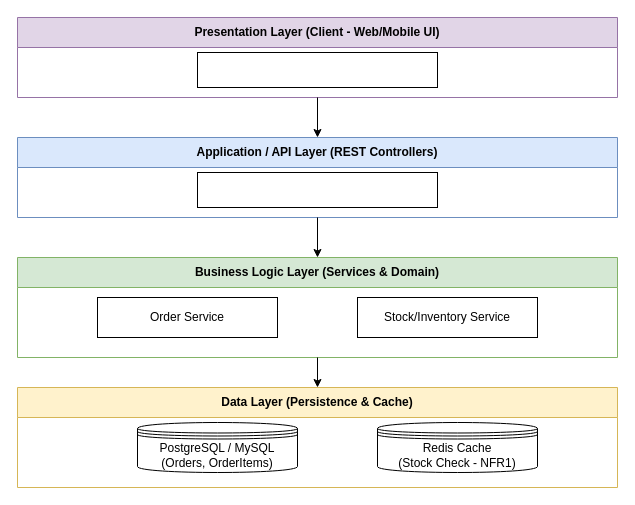
Some shapes in this 635 by 505 pixel diagram are drawn without their labels. Each missing label, with the centre of its shape:
"Order API Controller" belongs at (x=317, y=190).
"Order UI Component (React/Vue)" belongs at (x=317, y=70).
